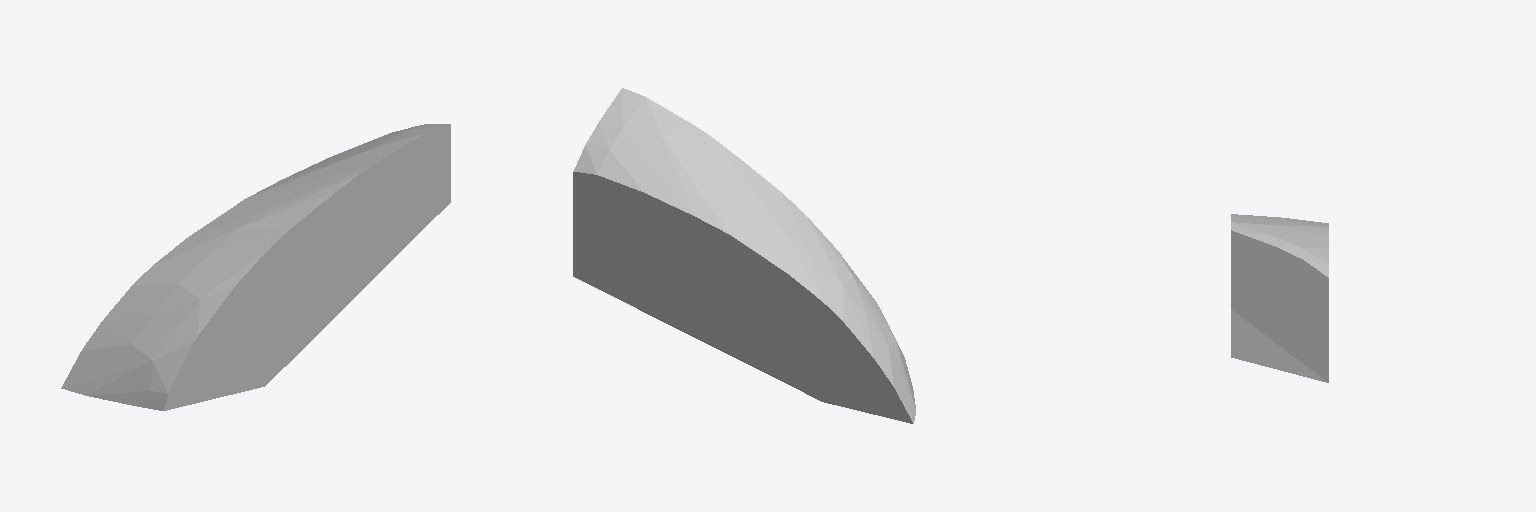
The model's file is phantom-elastrat_collision_531.obj.
3 views of the same model, side by side, from view 1: azimuth 30°, elevation 25°; view 2: azimuth 150°, elevation 25°; view 3: azimuth 270°, elevation 25° (orthographic).
Bounding box in the file's own units: 0.0082 × 0.005 × 0.0021.